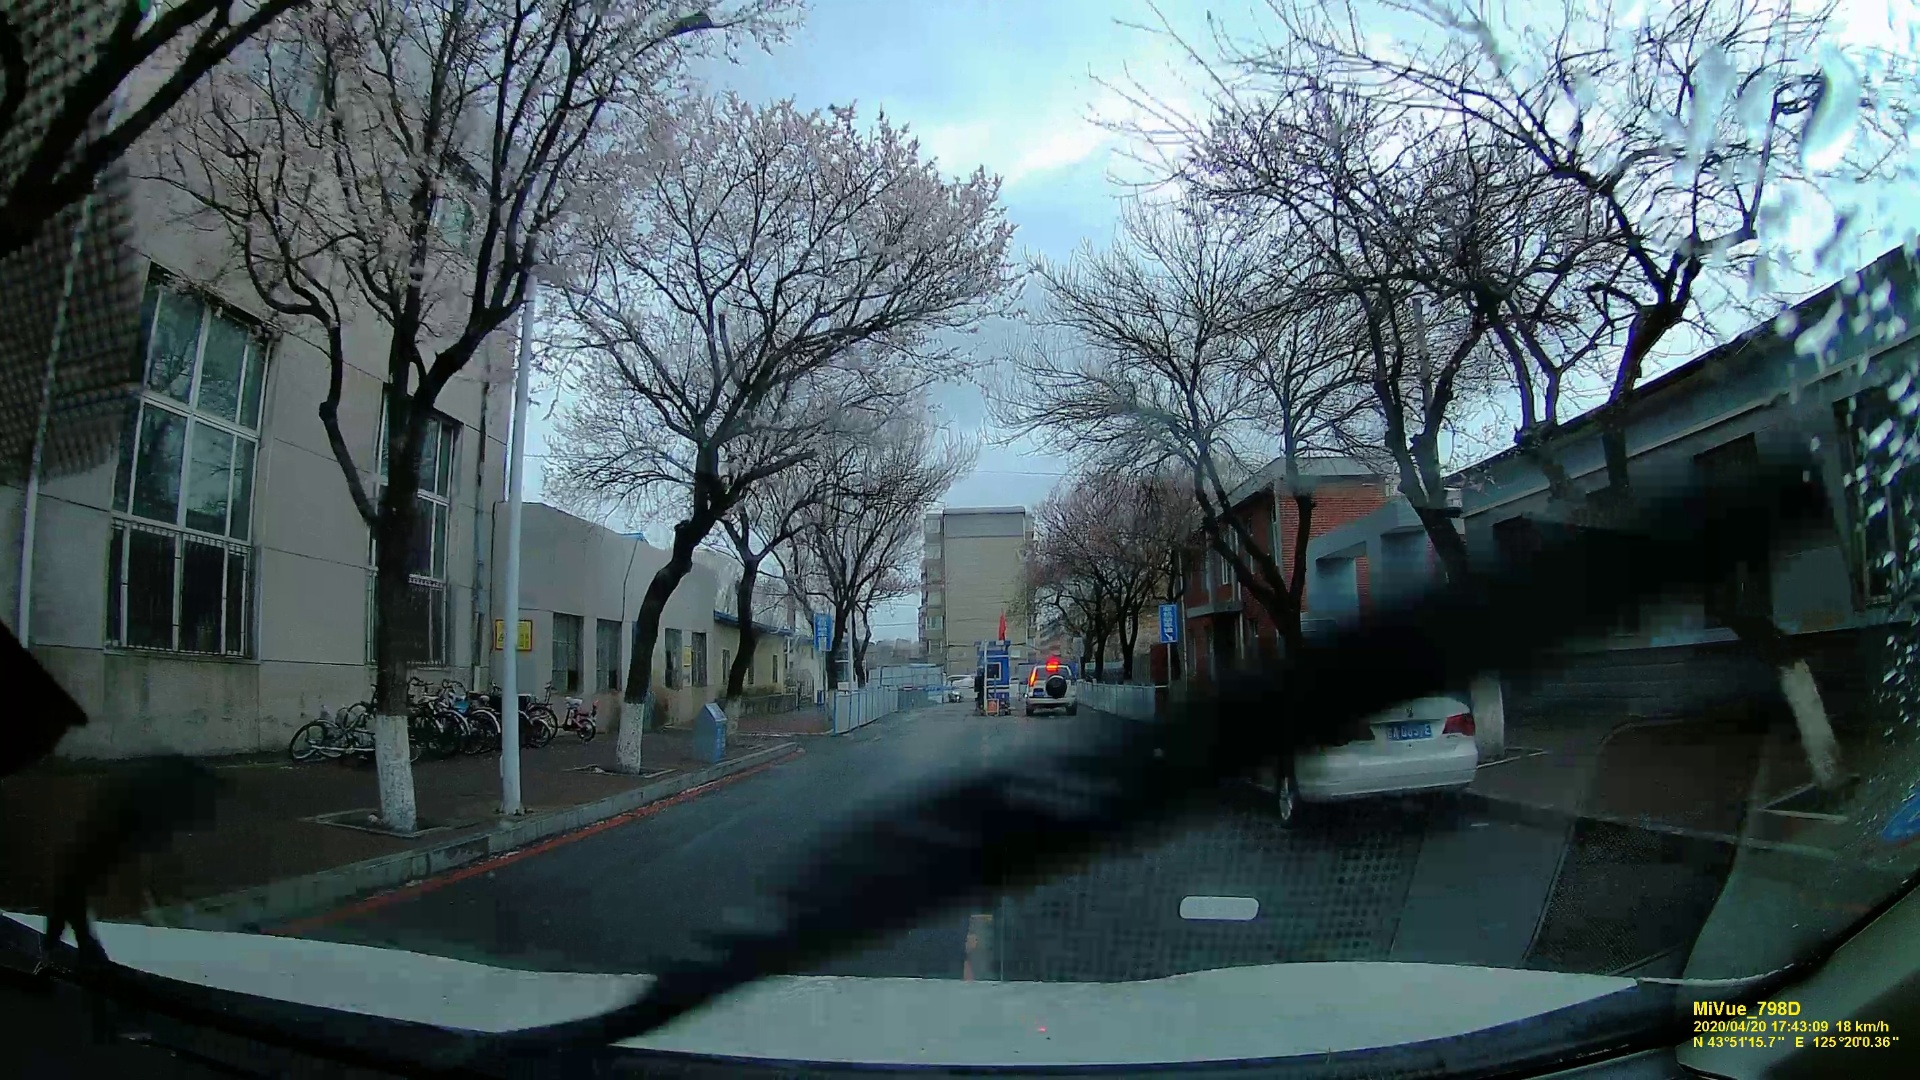vehicle: (1276, 686, 1484, 816), (1023, 661, 1077, 713)
